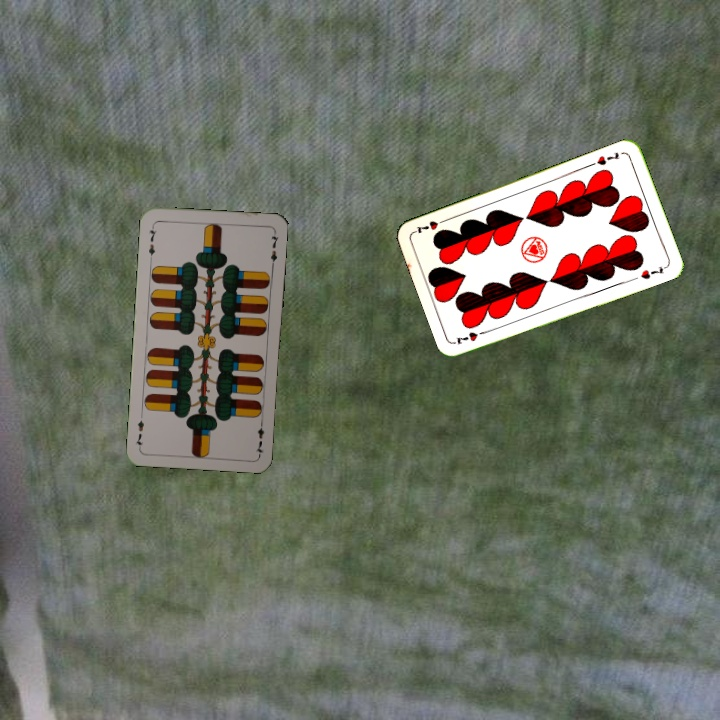E7: (145, 221, 159, 262), (252, 416, 266, 457)
H7: (451, 326, 491, 347), (586, 148, 622, 169)
